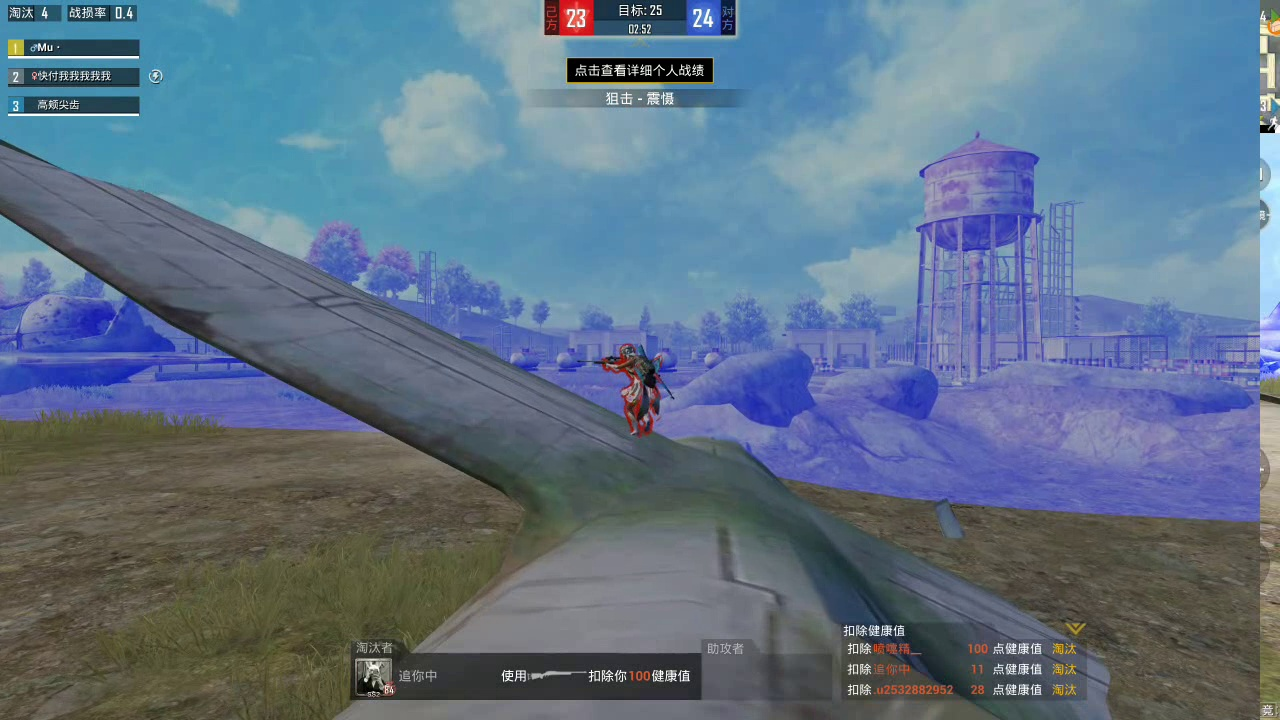enemy: (609, 341, 657, 439)
